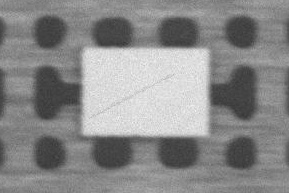DIE_CRACK: (133, 49, 259, 79)
